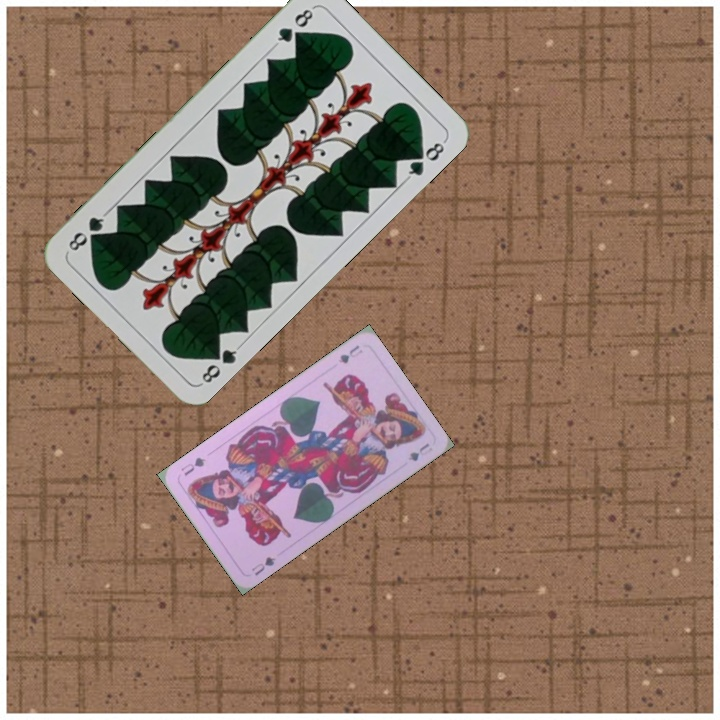G8: (196, 341, 244, 388), (271, 3, 317, 49)
GU: (247, 552, 278, 578), (334, 341, 365, 366)
